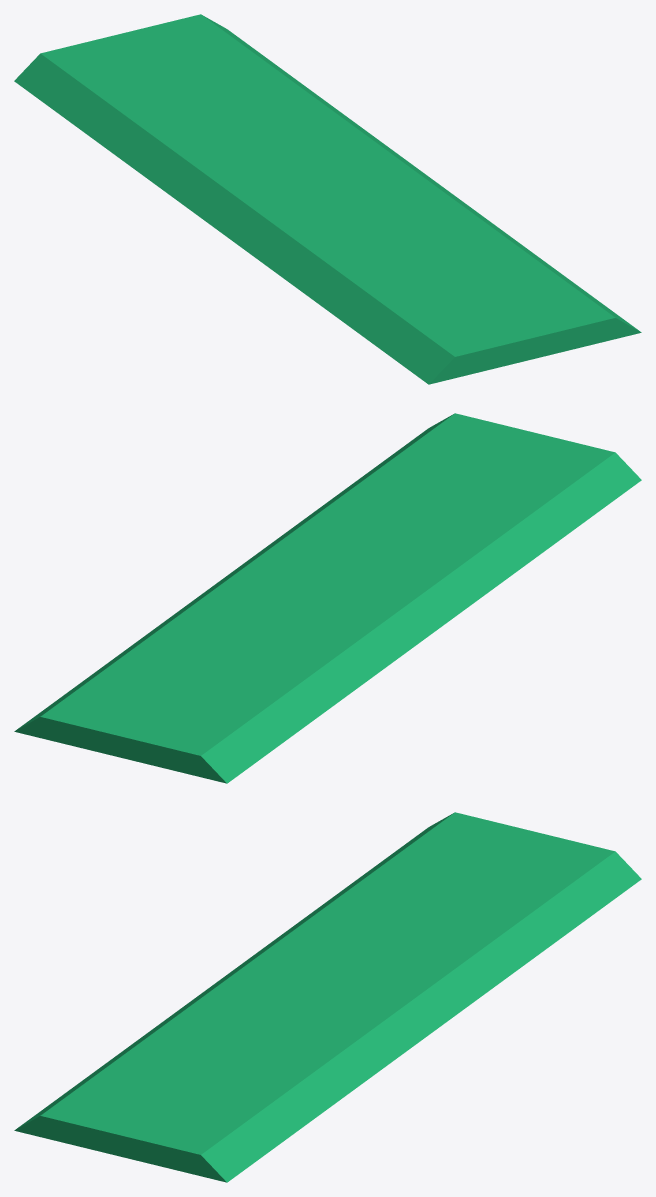
File: extra grass polder.fbx
The picture shows the model from 3 angles, top to bottom: view 1: azimuth 30°, elevation 25°; view 2: azimuth 150°, elevation 25°; view 3: azimuth 330°, elevation 25°; orthographic projection.
Visible parts, largest first — view 1: Cube; view 2: Cube; view 3: Cube.
Part boxes in pixels (x1=…): Cube: x1=14, y1=14, x2=641, y2=384; Cube: x1=14, y1=413, x2=641, y2=783; Cube: x1=14, y1=812, x2=641, y2=1182.
Bounding box in the file's own units: 266 × 25.37 × 895.
